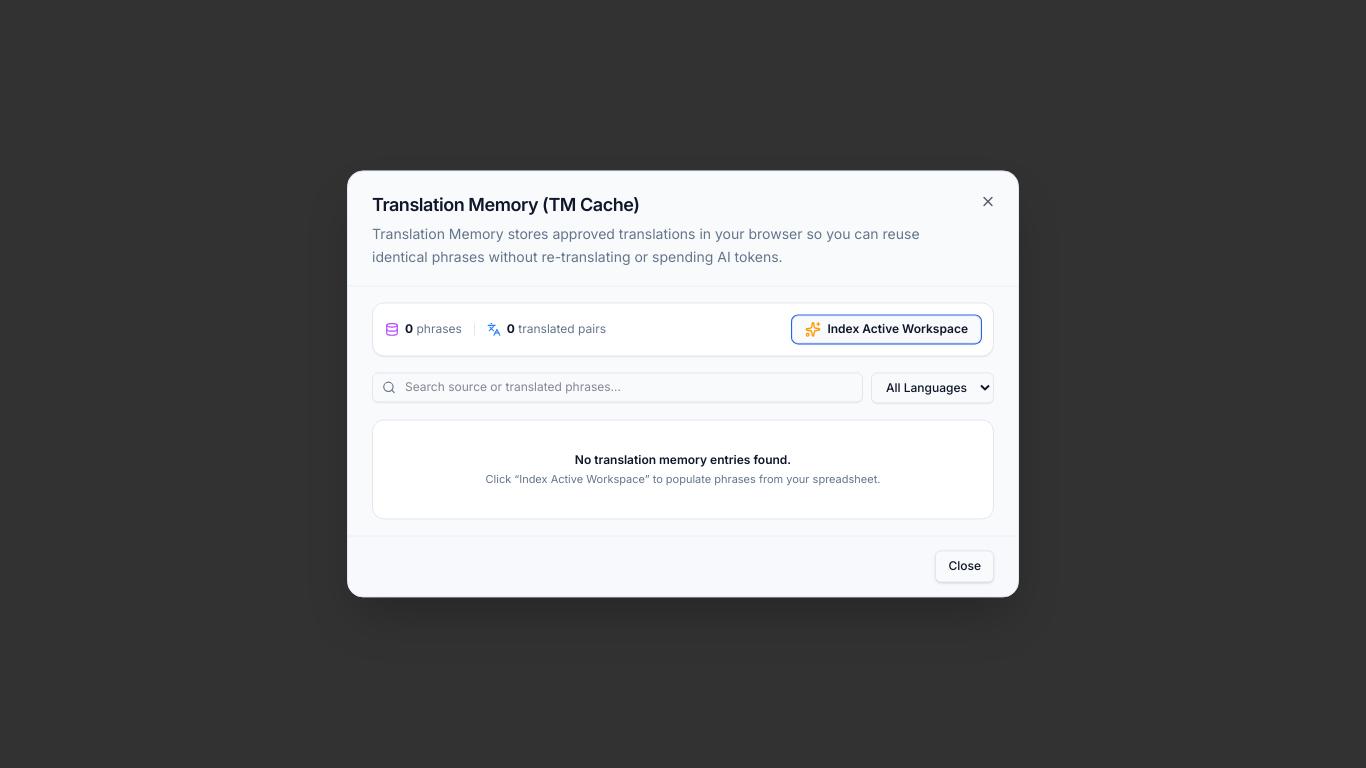
Test case: TranslationMemoryModal › indexes active workspace when Index button is clicked
Click the button "Index Active Workspace" at (887, 329), box [792,315,981,343]
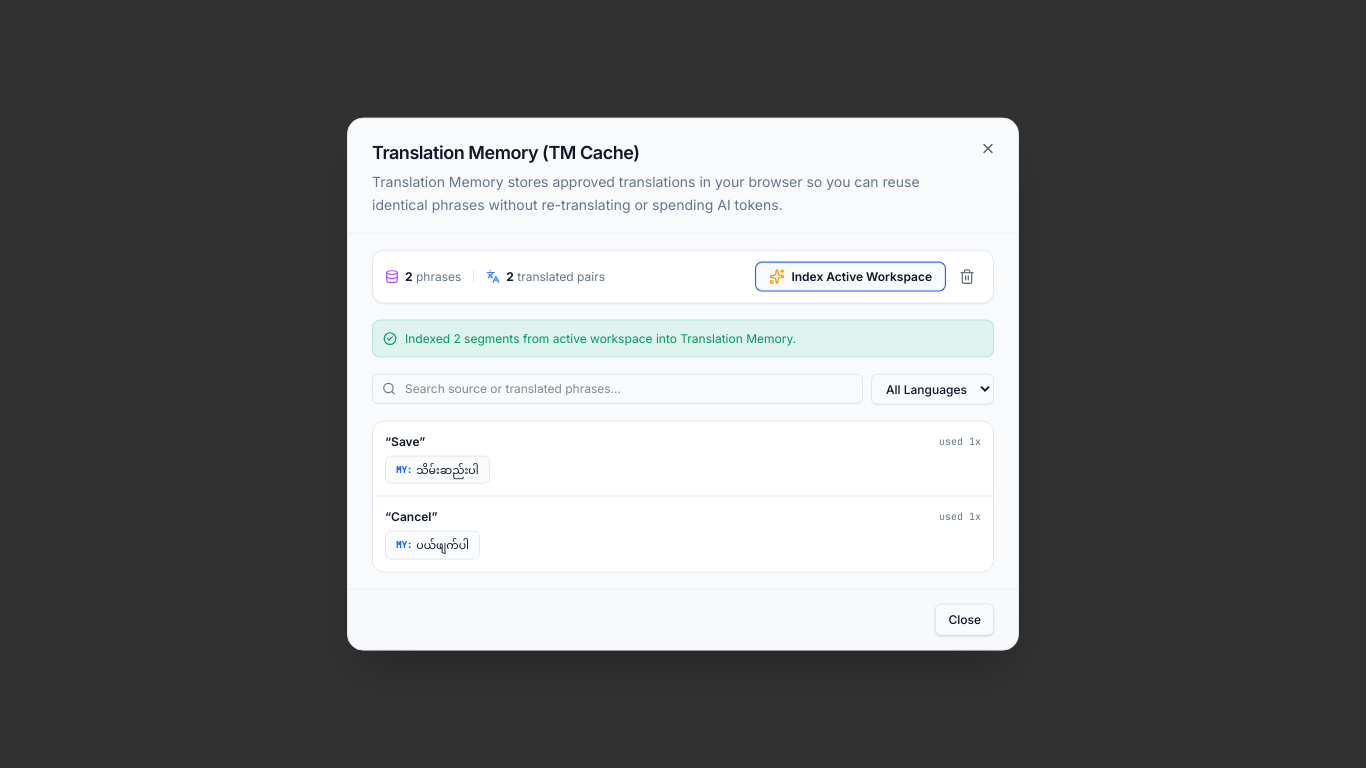
Expected: the text "“Save”" is shown, [385,433,425,449]
Expected: the text "“Cancel”" is shown, [385,509,437,525]
Expected: the text "သိမ်းဆည်းပါ" is shown, [416,462,479,477]
